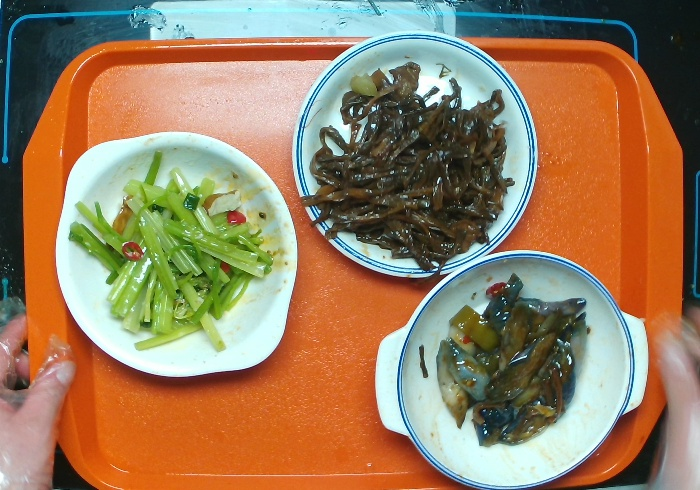HZYJPL-Dai_Er_Bai_Yuan_Wan: (53, 125, 304, 383)
HZYJPL-Lan_Bian_Dai_Er_Wan: (363, 245, 653, 488)
HZYJPL-Lan_Bian_Yuan_Die: (285, 26, 542, 285)
